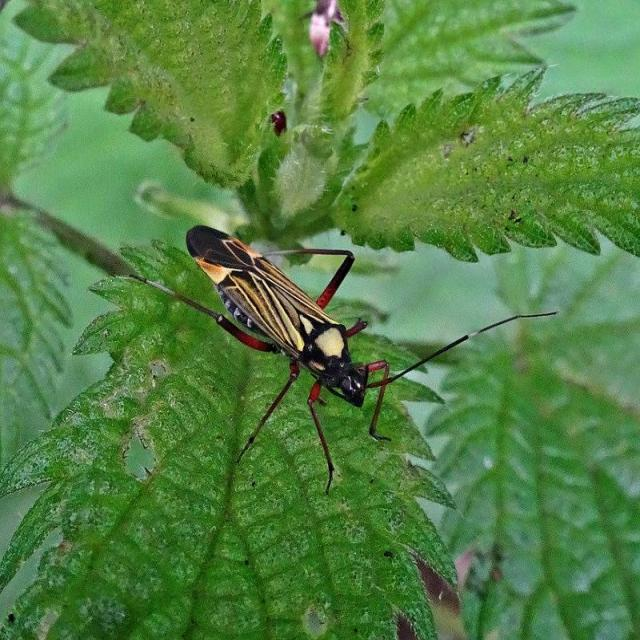Miridae-Adult-: (117, 224, 526, 472)
